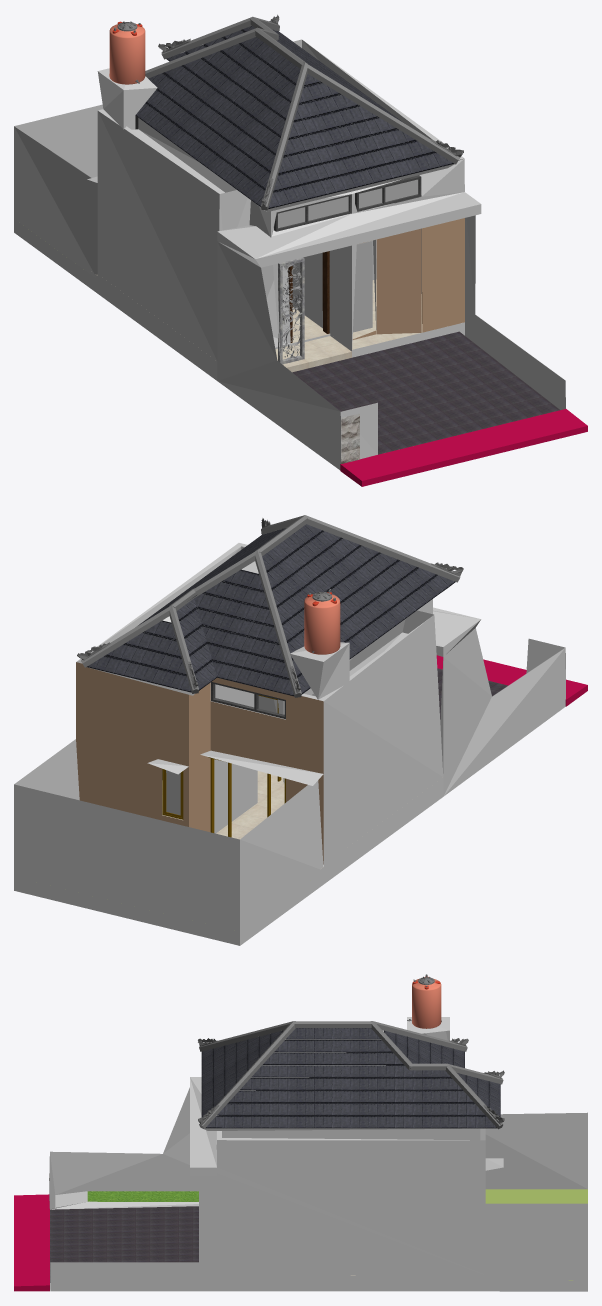
The model's file is cantya.glb.
3 renders of one model, top to bottom at view 1: azimuth 30°, elevation 25°; view 2: azimuth 150°, elevation 25°; view 3: azimuth 270°, elevation 25°, orthographic. The views are drawn at different scales.
Visible parts, largest first — view 1: Mesh1 Group5 Group4 Group3 Group2 Group1 Model, Mesh12 Intersection Group2 Group1 Model, Mesh271 Group52 Group50 Group1 Model, Mesh126 Group18 Group16 Group1 Model, Mesh249 Group37 Group1 Model, Mesh14 Group9 Group8 Group2 Group1 Model, Mesh242 Group31 Group1 Model, Mesh2807 Group228 Component_40_1 Group1 Model, Mesh2768 Penguin_General_Water_Tank_800_Liter_Orange_1_1 Gro, Mesh229 Group23 Group16 Group1 Model, Mesh276 Group54 Group50 Group1 Model, Mesh251 Group39 Group38 Group1 Model (+1 smaller); view 2: Mesh1 Group5 Group4 Group3 Group2 Group1 Model, Mesh12 Intersection Group2 Group1 Model, Mesh126 Group18 Group16 Group1 Model, Mesh14 Group9 Group8 Group2 Group1 Model, Mesh2768 Penguin_General_Water_Tank_800_Liter_Orange_1_1 Gro, Mesh122 Group15 Group14 Group1 Model, Mesh249 Group37 Group1 Model, Mesh102 Group_23_1 Component_21_1 Group2 Group1 Model, Mesh229 Group23 Group16 Group1 Model, Mesh242 Group31 Group1 Model; view 3: Mesh1 Group5 Group4 Group3 Group2 Group1 Model, Mesh12 Intersection Group2 Group1 Model, Mesh271 Group52 Group50 Group1 Model, Mesh14 Group9 Group8 Group2 Group1 Model, Mesh249 Group37 Group1 Model, Mesh126 Group18 Group16 Group1 Model, Mesh2768 Penguin_General_Water_Tank_800_Liter_Orange_1_1 Gro, Mesh269 Group51 Group50 Group1 Model, Mesh102 Group_23_1 Component_21_1 Group2 Group1 Model.
Boxes of the visible parts, bbox=[...] form: Mesh1 Group5 Group4 Group3 Group2 Group1 Model: bbox=[14, 39, 565, 469]; Mesh12 Intersection Group2 Group1 Model: bbox=[135, 26, 453, 208]; Mesh271 Group52 Group50 Group1 Model: bbox=[292, 331, 560, 454]; Mesh126 Group18 Group16 Group1 Model: bbox=[97, 218, 464, 372]; Mesh249 Group37 Group1 Model: bbox=[340, 409, 587, 486]; Mesh14 Group9 Group8 Group2 Group1 Model: bbox=[145, 16, 459, 210]; Mesh242 Group31 Group1 Model: bbox=[278, 179, 418, 332]; Mesh2807 Group228 Component_40_1 Group1 Model: bbox=[278, 257, 304, 364]; Mesh2768 Penguin_General_Water_Tank_800_Liter_Orange_1_1 Gro: bbox=[109, 24, 145, 84]; Mesh229 Group23 Group16 Group1 Model: bbox=[135, 116, 565, 380]; Mesh276 Group54 Group50 Group1 Model: bbox=[341, 413, 359, 463]; Mesh251 Group39 Group38 Group1 Model: bbox=[288, 251, 329, 342]; Mesh1 Group5 Group4 Group3 Group2 Group1 Model: bbox=[14, 543, 565, 945]; Mesh12 Intersection Group2 Group1 Model: bbox=[87, 524, 455, 696]; Mesh126 Group18 Group16 Group1 Model: bbox=[76, 662, 323, 868]; Mesh14 Group9 Group8 Group2 Group1 Model: bbox=[81, 515, 460, 697]; Mesh2768 Penguin_General_Water_Tank_800_Liter_Orange_1_1 Gro: bbox=[304, 594, 340, 654]; Mesh122 Group15 Group14 Group1 Model: bbox=[162, 695, 285, 837]; Mesh249 Group37 Group1 Model: bbox=[436, 655, 587, 706]; Mesh102 Group_23_1 Component_21_1 Group2 Group1 Model: bbox=[77, 518, 463, 692]; Mesh229 Group23 Group16 Group1 Model: bbox=[211, 682, 285, 719]; Mesh242 Group31 Group1 Model: bbox=[166, 770, 180, 815]; Mesh1 Group5 Group4 Group3 Group2 Group1 Model: bbox=[49, 1017, 587, 1291]; Mesh12 Intersection Group2 Group1 Model: bbox=[201, 1028, 500, 1128]; Mesh271 Group52 Group50 Group1 Model: bbox=[50, 1206, 198, 1282]; Mesh14 Group9 Group8 Group2 Group1 Model: bbox=[199, 1021, 503, 1129]; Mesh249 Group37 Group1 Model: bbox=[14, 1194, 49, 1291]; Mesh126 Group18 Group16 Group1 Model: bbox=[351, 1189, 587, 1280]; Mesh2768 Penguin_General_Water_Tank_800_Liter_Orange_1_1 Gro: bbox=[412, 978, 441, 1028]; Mesh269 Group51 Group50 Group1 Model: bbox=[87, 1191, 198, 1201]; Mesh102 Group_23_1 Component_21_1 Group2 Group1 Model: bbox=[198, 1038, 504, 1124].
Bounding box in the file's own units: 6 × 7.01 × 16.
Materials: 27 (12 with a texture image).
